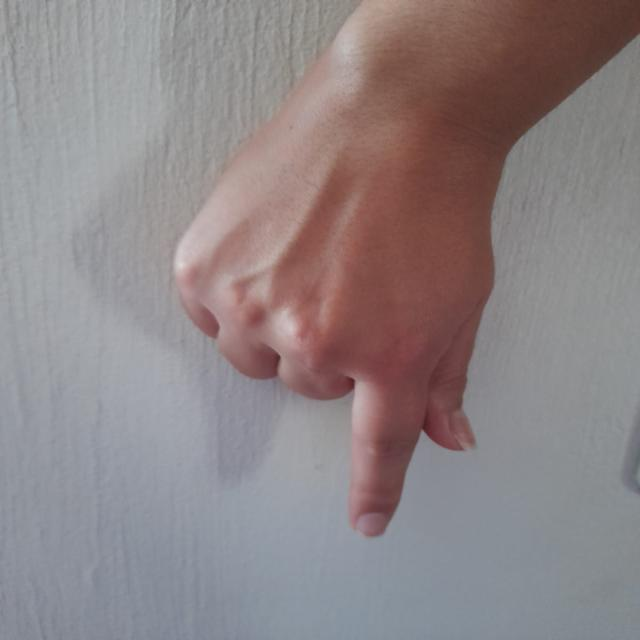Q: (168, 124, 496, 546)
